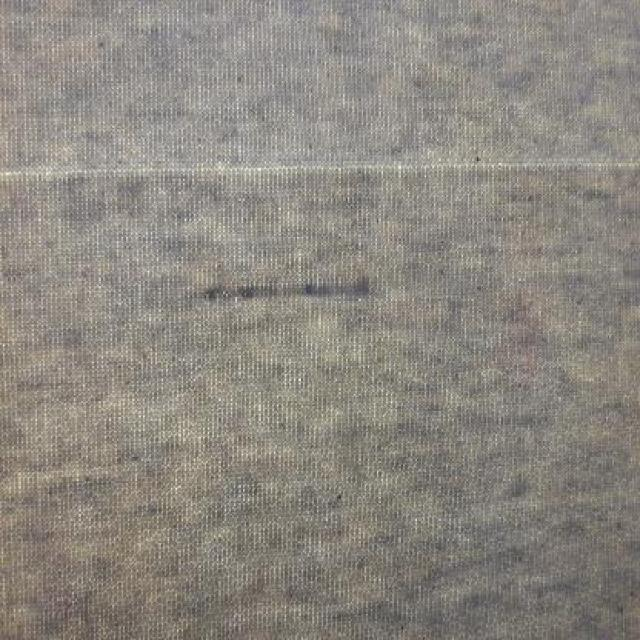stains: (148, 246, 410, 398)
